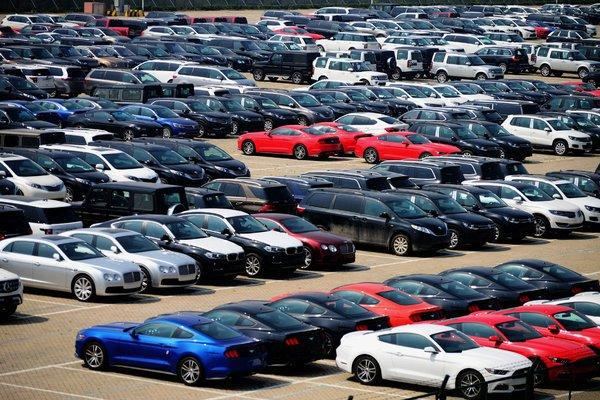car: (5, 6, 594, 400)
